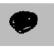correct: (6, 8, 41, 36)
